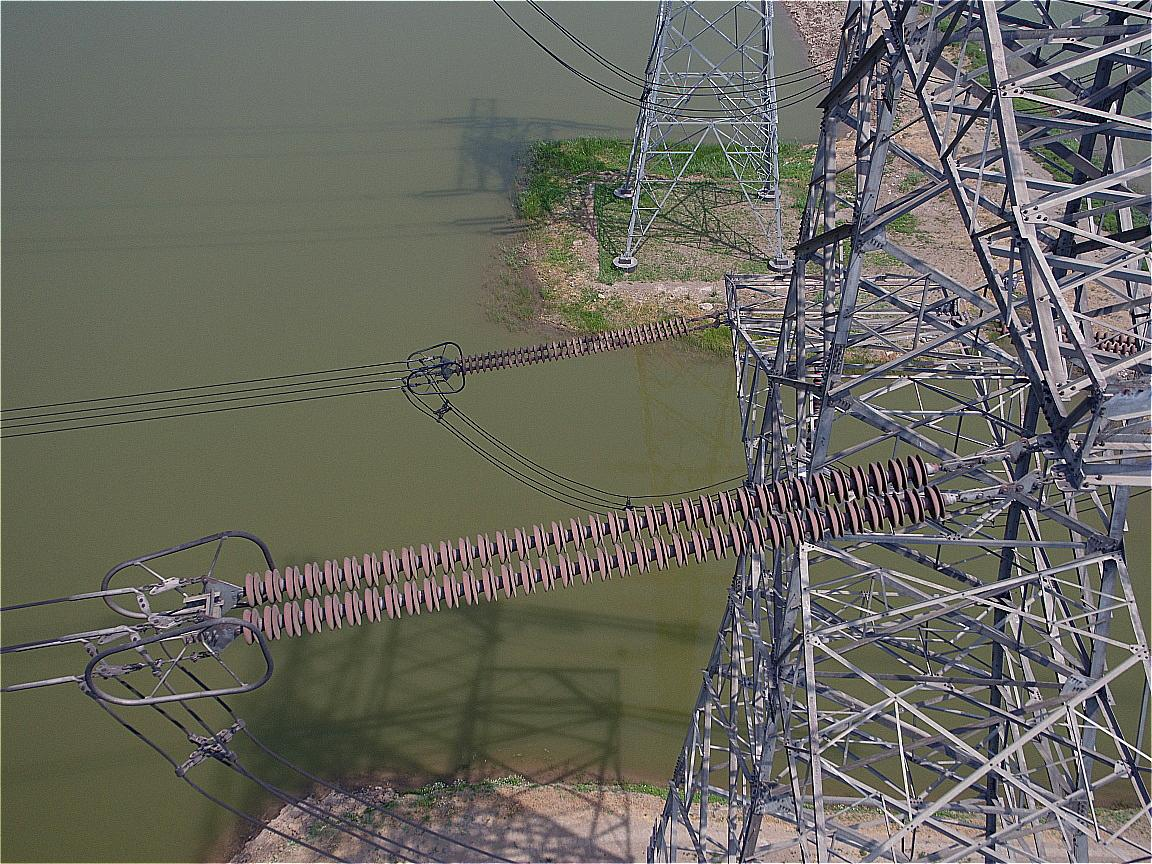insultor1: (456, 314, 690, 377)
insultor2: (242, 452, 947, 646)
